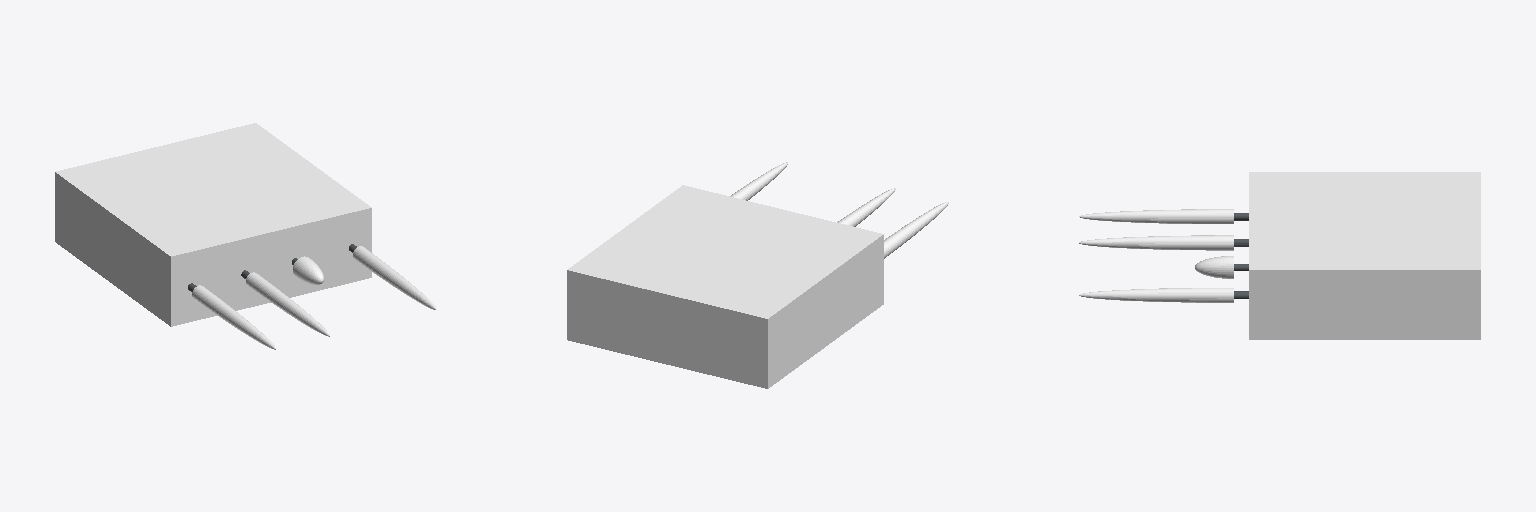
The model's file is tinker.obj.
The picture shows the model from 3 angles: view 1: azimuth 30°, elevation 25°; view 2: azimuth 150°, elevation 25°; view 3: azimuth 270°, elevation 25°; orthographic projection.
Parts seen in each view (by area): view 1: obj_0; view 2: obj_0; view 3: obj_0.
Boxes of the visible parts, box(x1,y1,x2,y2) form: obj_0: box(55, 123, 436, 349); obj_0: box(567, 162, 948, 388); obj_0: box(1079, 172, 1480, 339).
Size of the model in its own units: 30 by 10 by 52.